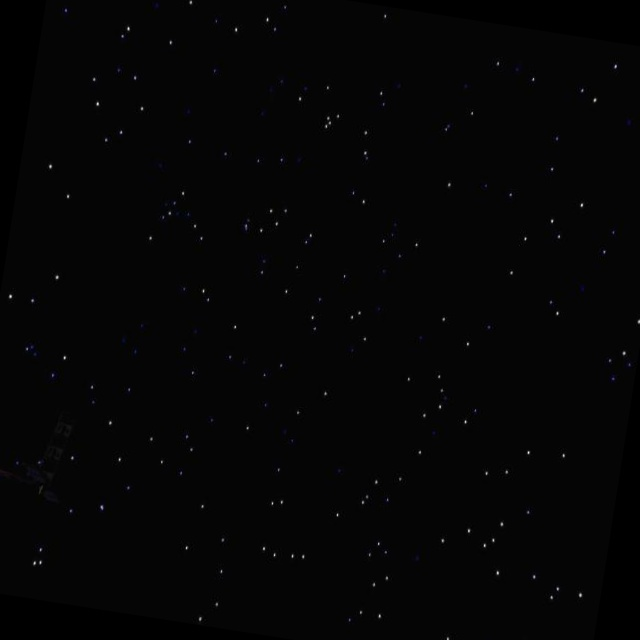medium_debris: (0, 391, 111, 515)
